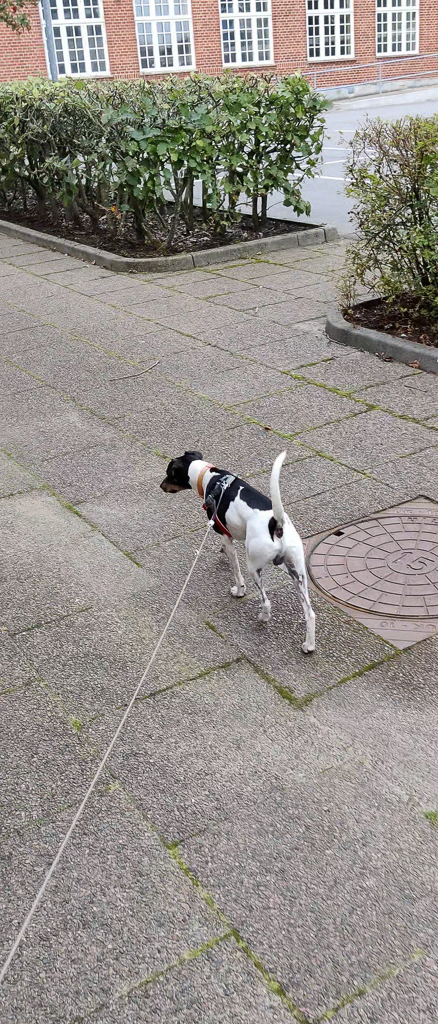Dog: (145, 427, 336, 670)
